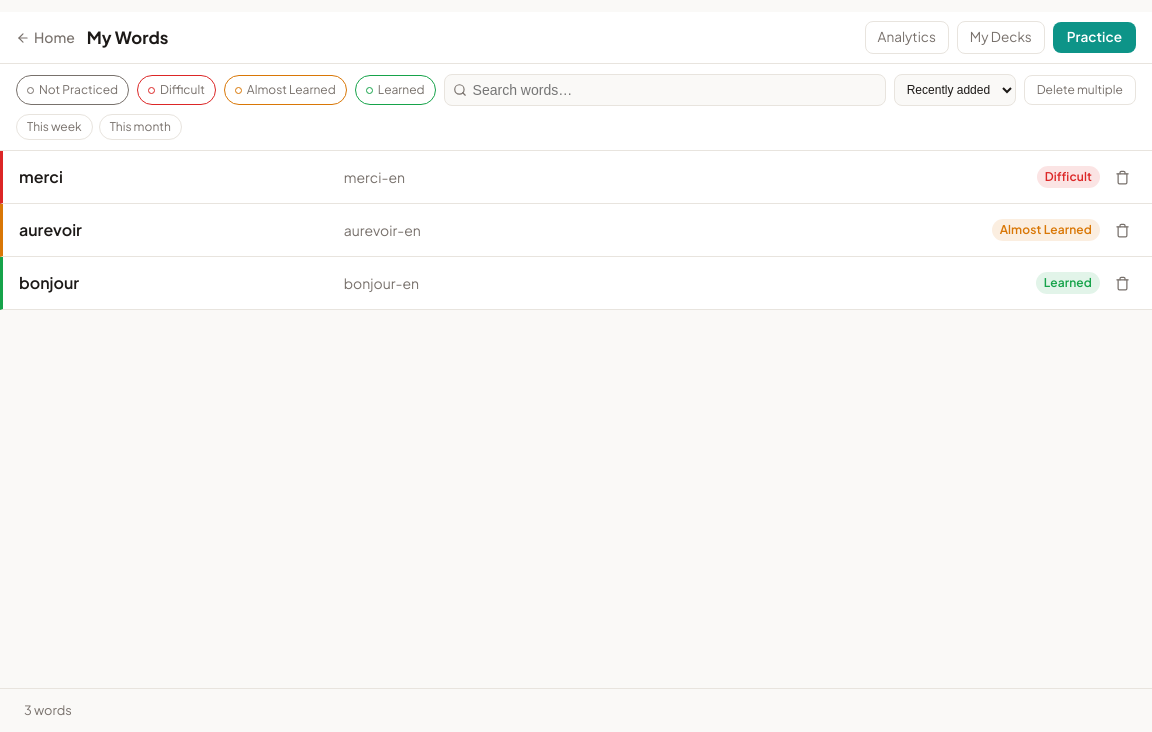
it: Flashcards — single delete › surfaces a delete failure in a banner
Expected: the text "bonjour" is shown, [19,272,79,293]
Click the button named "delete bonjour". click: click(1122, 283)
box: [1108,269,1136,297]
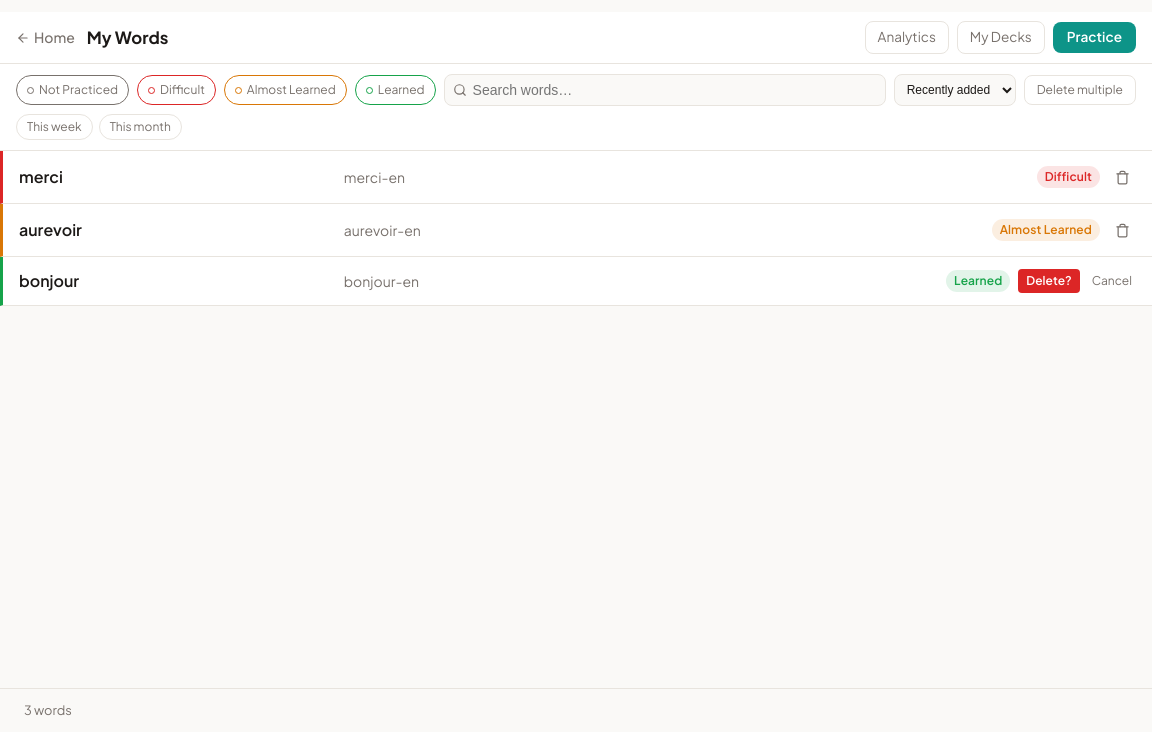
Click the button "Delete?". click: click(1049, 281)
box: [1018,269,1080,293]
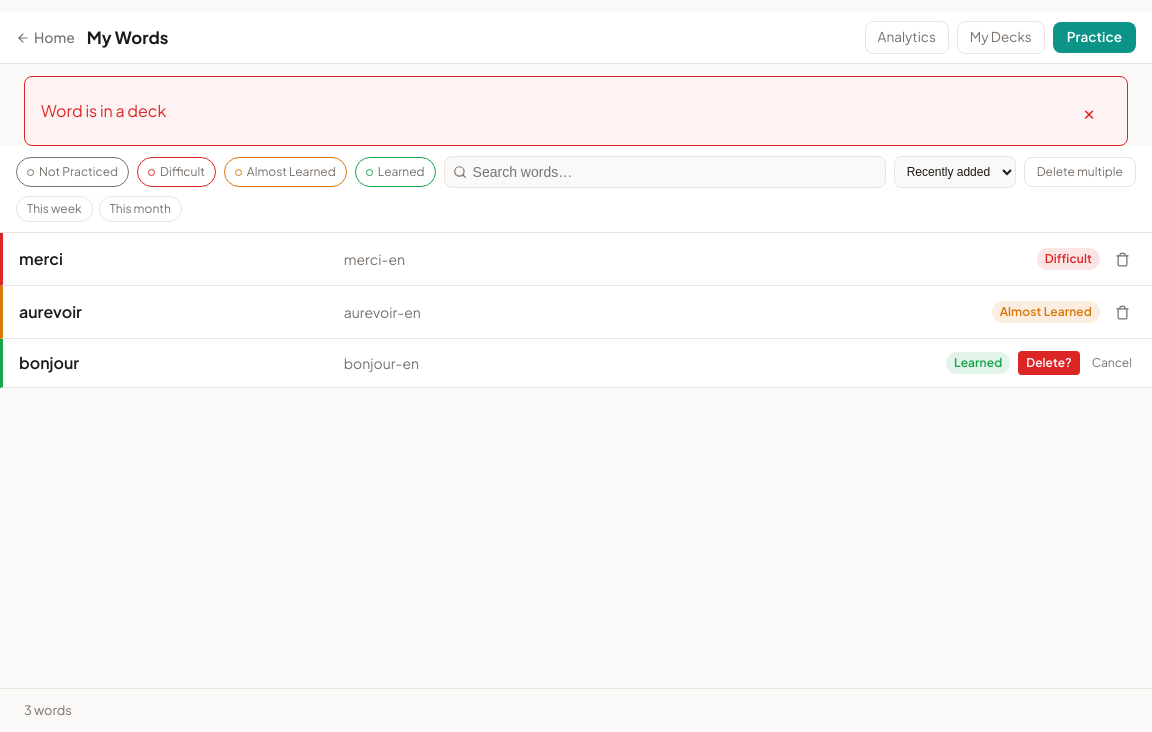
Expected: the text "Word is in a deck" is shown, [41,99,166,123]
